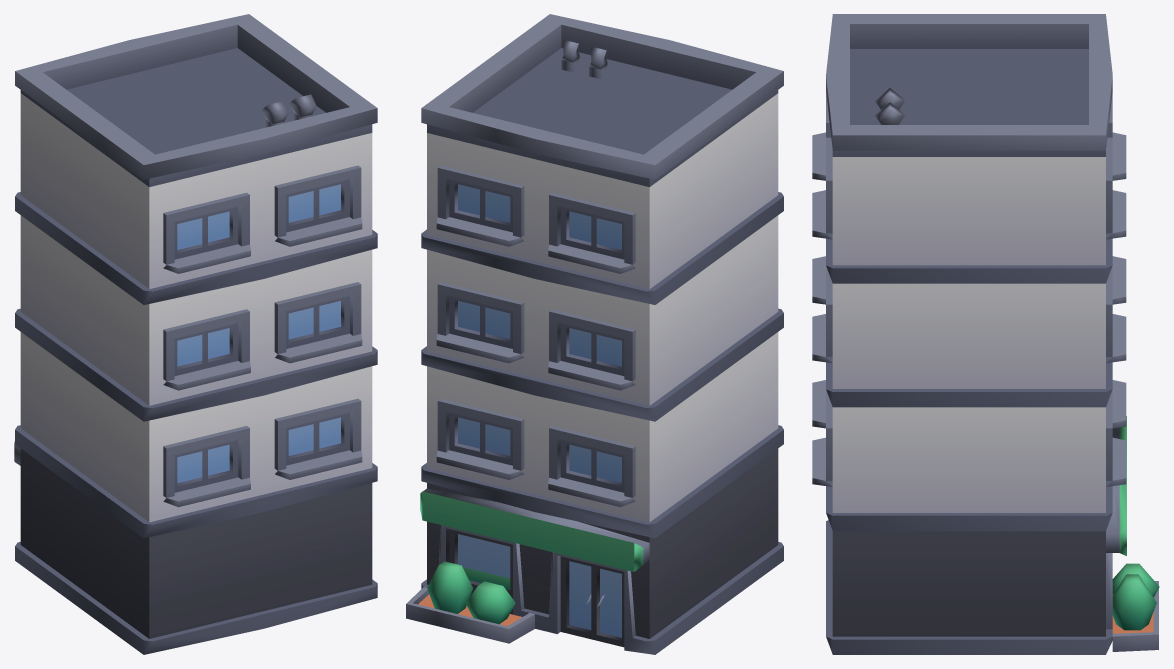
The model's file is 080_city-kit-commercial_building-f_card.glb.
3 renders of one model, left to right at view 1: azimuth 30°, elevation 25°; view 2: azimuth 150°, elevation 25°; view 3: azimuth 270°, elevation 25°, orthographic. The views are drawn at different scales.
Visible parts, largest first — view 1: building-f; view 2: building-f; view 3: building-f.
Boxes of the visible parts, left/top/right/bottom form: building-f: left=14, top=14, right=377, bottom=654; building-f: left=406, top=14, right=783, bottom=654; building-f: left=812, top=14, right=1159, bottom=654.
Bounding box in the file's own units: 0.84 × 1.69 × 1.02.
1 material, 1 textured.
